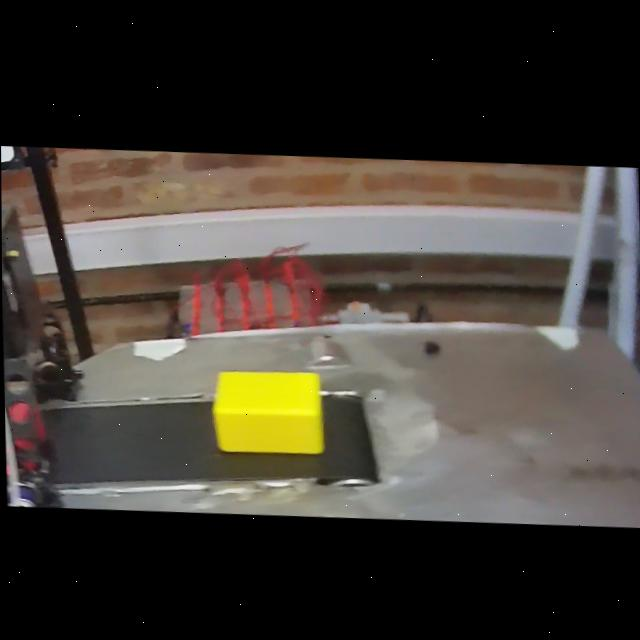redBox: (4, 390, 59, 485)
yellowBox: (205, 359, 337, 463)
